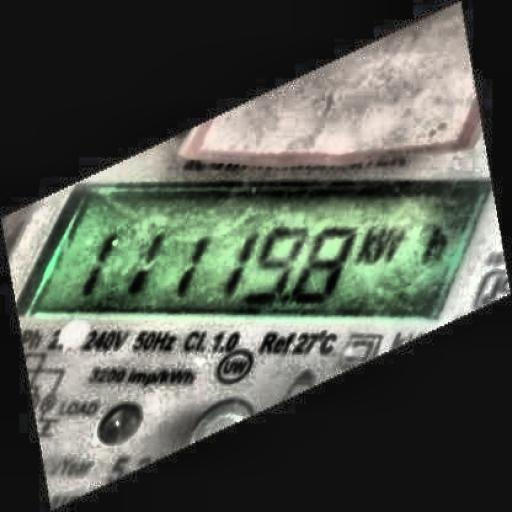DISPLAY_REGION: (17, 176, 490, 328)
SERIAL_REGION: (69, 220, 410, 302)
